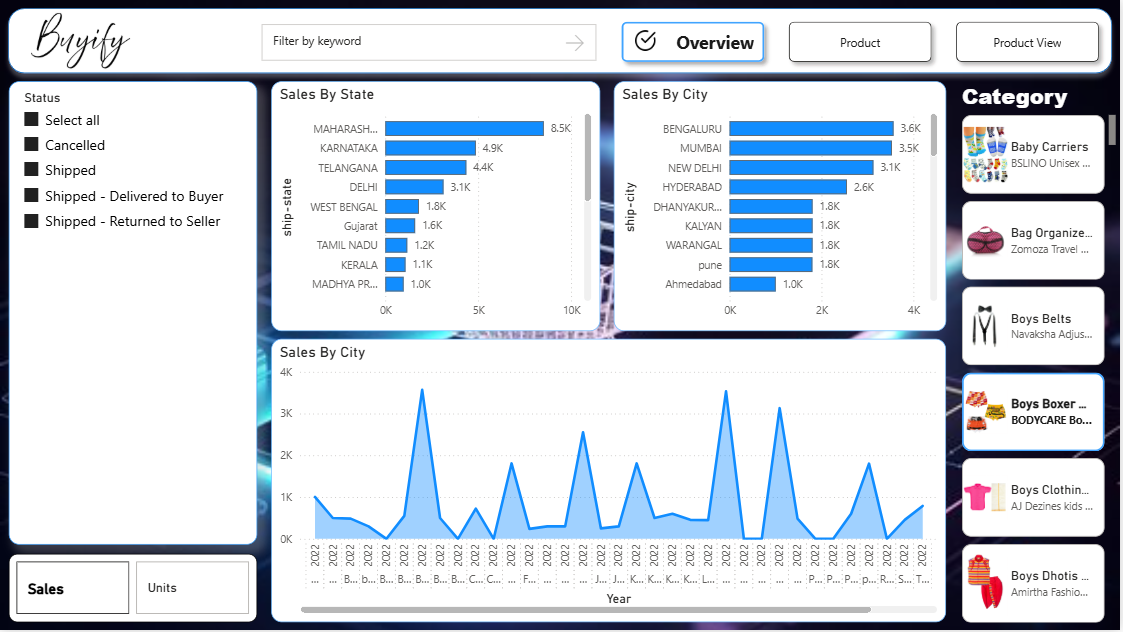

Layout of this report page (visuals, bound fields, positions):
{"tool":"powerbi","page":{"name":"Overview","canvas":[1280,720],"ordinal":0},"visuals":[{"type":"advancedSlicerVisual","fields":{"Values":["amazon-fashion - YT.Category"]},"box":[1093.7,93.3,186.6,627.1],"z":0},{"type":"shape","box":[0,0,1280.3,93.3],"z":1000},{"type":"image","box":[24.7,8.2,145.5,76.8],"z":2000},{"type":"pageNavigator","box":[701.2,15.1,564,64.5],"z":3000},{"type":"image","box":[701.2,27.4,72.7,38.4],"z":4000},{"type":"textSlicer","fields":{"Values":["amazon-fashion - YT.Category"]},"box":[293.7,23.3,392.5,50.8],"z":5000},{"type":"slicer","fields":{"Values":["Amazon.Status"]},"box":[9.6,93.3,284,529.7],"z":6000},{"type":"advancedSlicerVisual","fields":{"Values":["Sale_Option.Name"]},"box":[9.6,632.6,284,78.2],"z":7000},{"type":"clusteredBarChart","title":"Sales By State","fields":{"Category":["Amazon.ship-state"],"Y":["Amazon.Filter_Sale"]},"box":[310.1,93.3,376,285.4],"z":8000},{"type":"clusteredBarChart","title":"Sales By City","fields":{"Category":["Amazon.ship-city"],"Y":["Amazon.Filter_Sale"]},"box":[701.2,93.3,380.1,285.4],"z":9000},{"type":"areaChart","title":"Sales By City","fields":{"Category":["Amazon.ship-city","Amazon.Date.Variation.Date Hierarchy.Year"],"Y":["Amazon.Filter_Sale"]},"box":[310.1,387,771.2,323.8],"z":10000}]}

Visuals, with their boxes in screenshot pixels (x1, y1, x2, y2), scaled from the page's 1280x720 canvas onto the 1123x632 screenshot:
advancedSlicerVisual - amazon-fashion - YT.Category: [left=960, top=82, right=1122, bottom=631]
shape: [left=0, top=0, right=1122, bottom=82]
image: [left=22, top=7, right=149, bottom=75]
pageNavigator: [left=615, top=13, right=1110, bottom=70]
image: [left=615, top=24, right=679, bottom=58]
textSlicer - amazon-fashion - YT.Category: [left=258, top=20, right=602, bottom=65]
slicer - Amazon.Status: [left=8, top=82, right=258, bottom=547]
advancedSlicerVisual - Sale_Option.Name: [left=8, top=555, right=258, bottom=624]
"Sales By State" clusteredBarChart: [left=272, top=82, right=602, bottom=332]
"Sales By City" clusteredBarChart: [left=615, top=82, right=949, bottom=332]
"Sales By City" areaChart: [left=272, top=340, right=949, bottom=624]
